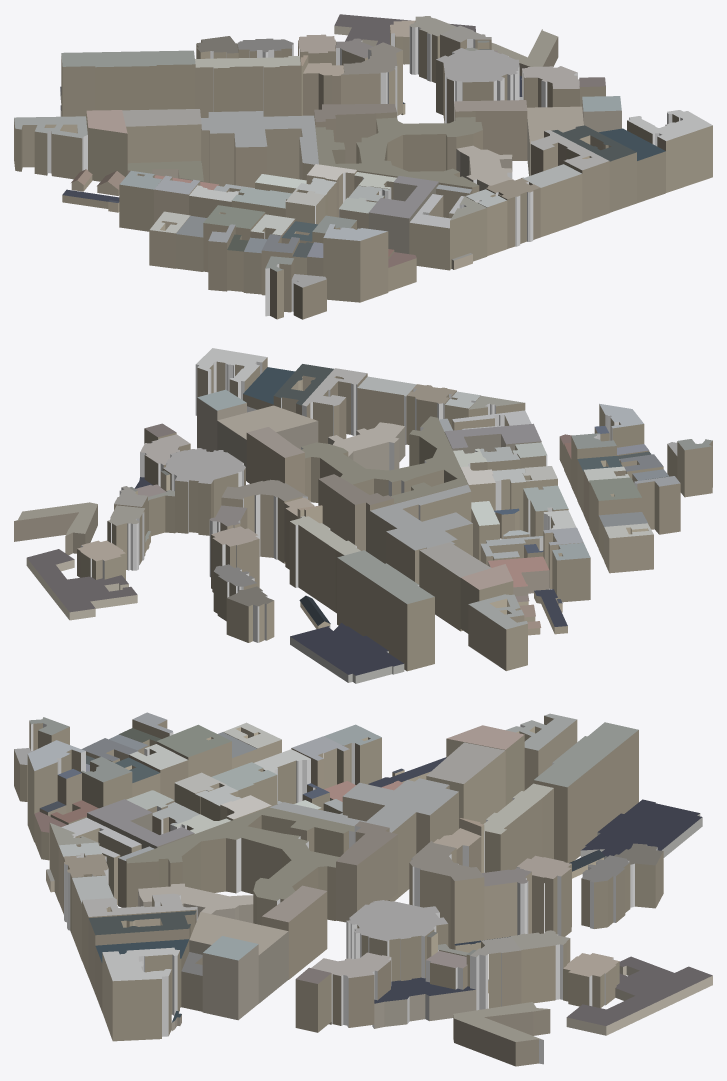
3 views of the same model, one above another, from view 1: azimuth 30°, elevation 25°; view 2: azimuth 150°, elevation 25°; view 3: azimuth 270°, elevation 25° (orthographic). The views are drawn at different scales.
Visible parts, largest first — view 1: tuile; view 2: tuile; view 3: tuile.
Boxes of the visible parts, bbox=[...] form: tuile: bbox=[14, 14, 712, 319]; tuile: bbox=[14, 348, 712, 683]; tuile: bbox=[14, 712, 712, 1066].
Size of the model in its own units: 284 by 43.63 by 281.
